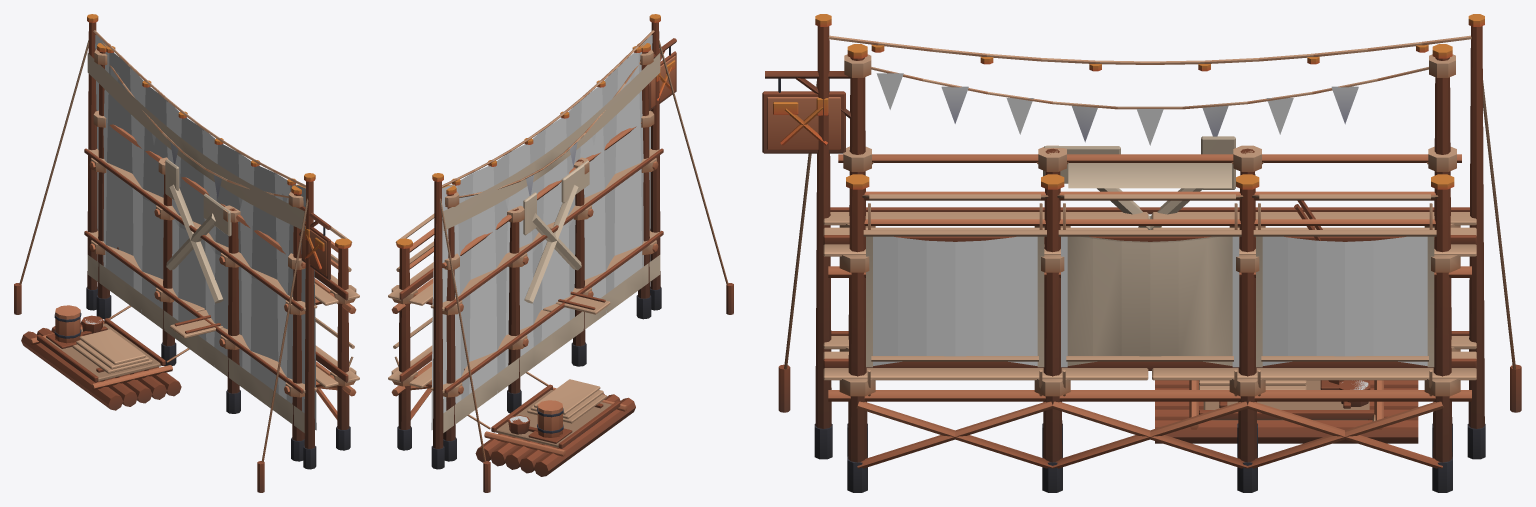
The model's file is dockworks.glb.
The picture shows the model from 3 angles, left to right: view 1: azimuth 30°, elevation 25°; view 2: azimuth 150°, elevation 25°; view 3: azimuth 270°, elevation 25°; orthographic projection. The views are drawn at different scales.
Visible parts, largest first — view 1: curtain-flag, curtain, raft, frame, cloth, piles-3, poles-1, poles-0, piles-2, piles-0, piles-1; view 2: curtain-flag, curtain, frame, raft, cloth, poles-0, piles-0, poles-1, piles-1, piles-3, piles-2; view 3: cloth, frame, cloth-flag, raft, poles-0, poles-1, piles-0, piles-3, curtain, piles-1, piles-2.
Boxes of the visible parts, x1,y1,x2,y2 form: curtain-flag: (95,35,316,430); curtain: (87,30,305,432); raft: (21,305,189,410); frame: (84,148,359,419); cloth: (93,42,354,366); piles-3: (291,194,351,461); poles-1: (257,173,316,492); poles-0: (14,14,98,314); piles-2: (226,208,240,413); piles-0: (96,52,111,319); piles-1: (161,160,176,365); curtain-flag: (431,35,652,430); curtain: (442,30,660,432); frame: (388,148,663,419); raft: (467,372,635,476); cloth: (393,38,676,367); poles-0: (431,173,490,492); piles-0: (396,194,456,461); poles-1: (649,14,733,314); piles-1: (507,208,521,413); piles-3: (636,52,651,319); piles-2: (571,159,586,366); cloth: (762,44,1461,396); frame: (823,191,1476,468); cloth-flag: (873,73,1427,367); raft: (1155,380,1418,443); poles-0: (1467,14,1521,459); poles-1: (778,14,832,459); piles-0: (1431,57,1454,492); piles-3: (846,57,869,492); curtain: (828,35,1471,229); piles-1: (1236,148,1259,492); piles-2: (1041,148,1064,492).
Bounding box in the file's own units: 2.76 × 5.03 × 7.79.
